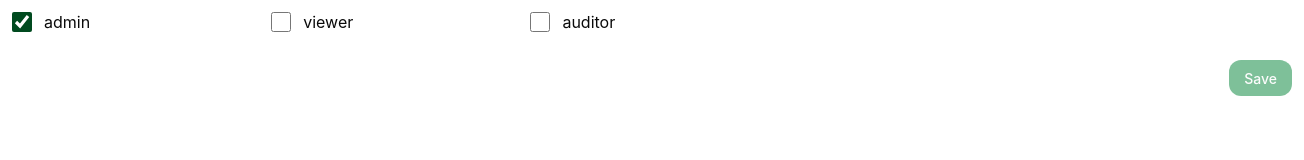
Test: AssignmentPanel › returns to a disabled Save when a change is undone
Click the checkbox labelled "viewer".
click(281, 22)  # box [271,4,291,40]
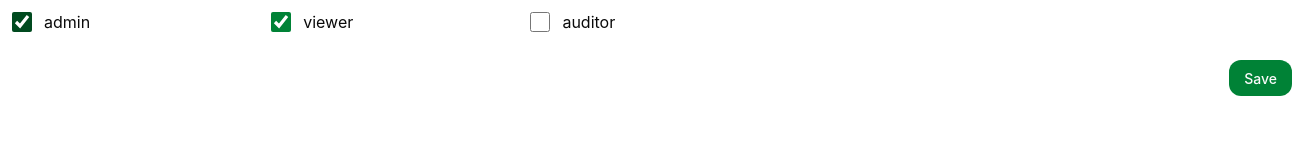
Click the checkbox labelled "viewer".
click(281, 22)  # box [271,4,291,40]
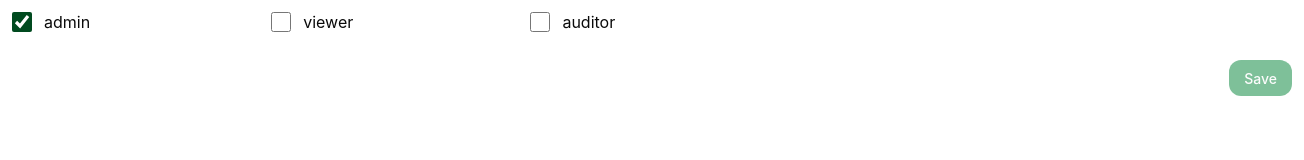
Check: the button "Save" is disabled, box [1229,60,1292,96]
